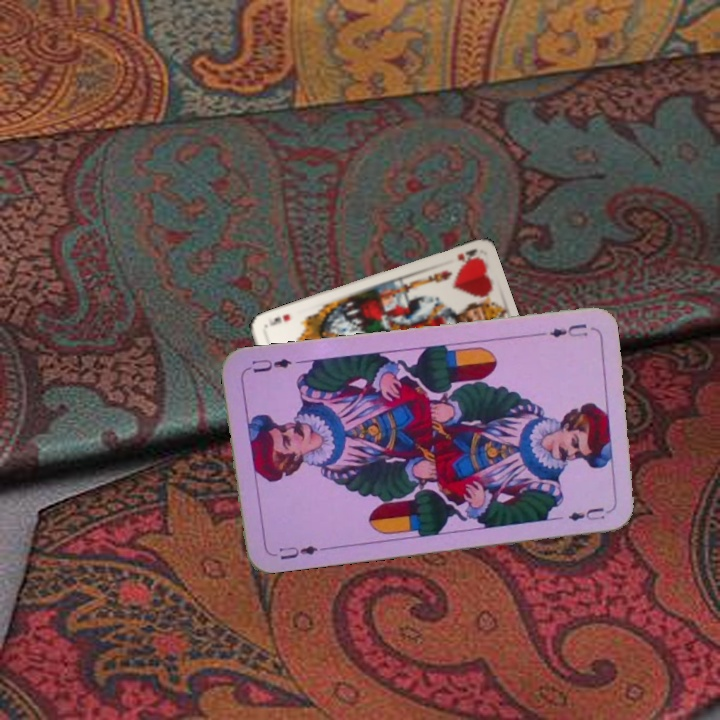EU: (267, 541, 326, 563), (546, 319, 590, 340)
HK: (454, 245, 481, 265)
